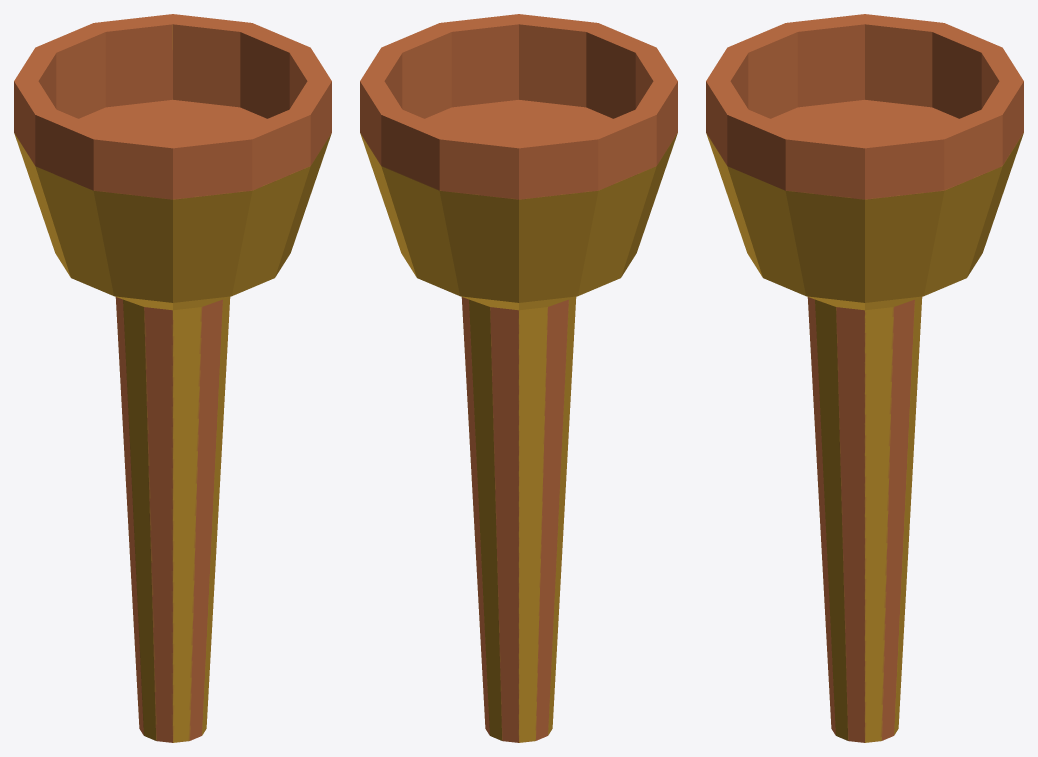
Rendered from antorcha_texturizada.fbx.
The picture shows the model from 3 angles, left to right: view 1: azimuth 30°, elevation 25°; view 2: azimuth 150°, elevation 25°; view 3: azimuth 270°, elevation 25°; orthographic projection.
Visible parts, largest first — view 1: Círculo; view 2: Círculo; view 3: Círculo.
Part boxes in pixels (box(x1,y1,x2,y2)): Círculo: box(14, 14, 331, 742); Círculo: box(360, 14, 677, 742); Círculo: box(706, 14, 1023, 742).
Bounding box in the file's own units: 373 × 837 × 373.
